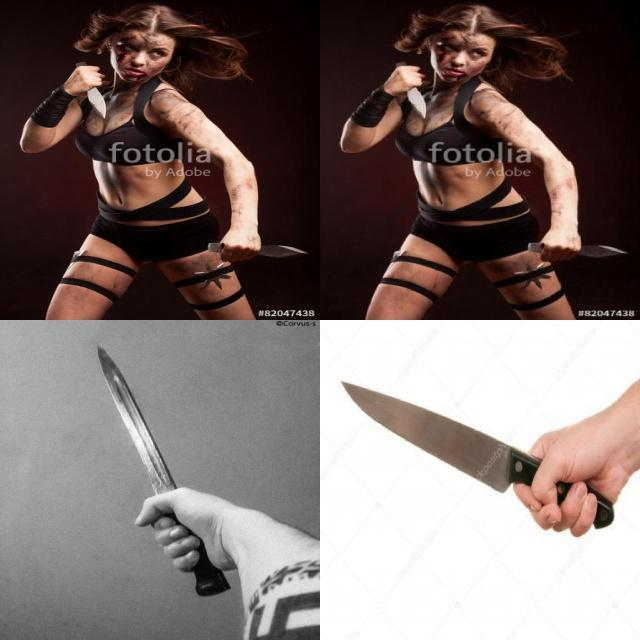-: (335, 370, 588, 534), (90, 339, 200, 542), (71, 68, 107, 120), (392, 69, 428, 121)
